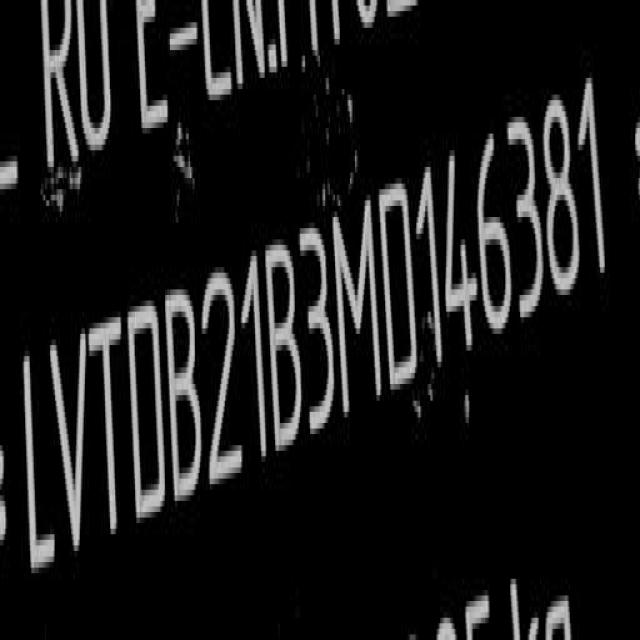1: (239, 252, 268, 469), (583, 82, 611, 289), (417, 162, 442, 378)
2: (203, 278, 244, 492)
3: (302, 218, 340, 439), (512, 106, 545, 326)
4: (441, 148, 478, 360)
6: (477, 128, 513, 340)
8: (545, 91, 580, 307)
B: (165, 285, 208, 510), (268, 233, 306, 456)
D: (124, 300, 166, 528), (385, 177, 424, 395)
L: (16, 343, 57, 578)
M: (335, 198, 387, 418)
T: (90, 311, 128, 548)
V: (48, 324, 90, 565)
